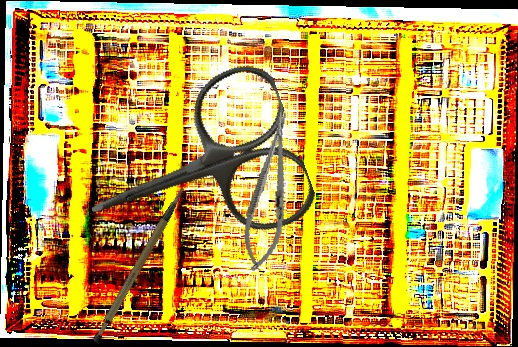Iris Scissors: (62, 55, 323, 288)
Needle Holder: (236, 108, 304, 275)
Scalpel Handle: (73, 186, 208, 346)
